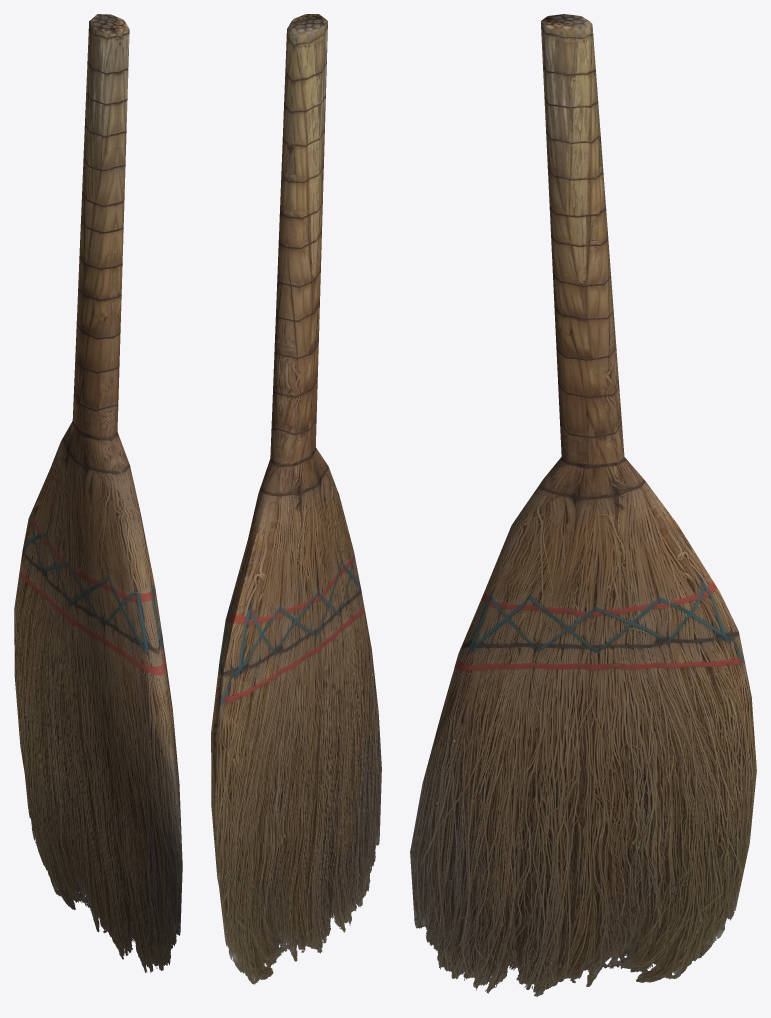
Rendered from Barrom_01.obj.
The picture shows the model from 3 angles, left to right: view 1: azimuth 30°, elevation 25°; view 2: azimuth 150°, elevation 25°; view 3: azimuth 270°, elevation 25°; orthographic projection. The views are drawn at different scales.
Visible parts, largest first — view 1: S_Broom_01; view 2: S_Broom_01; view 3: S_Broom_01.
Part boxes in pixels (x1,y1,x2,y2): S_Broom_01: (14, 14, 182, 972); S_Broom_01: (211, 14, 381, 984); S_Broom_01: (410, 14, 756, 996).
Bounding box in the file's own units: 3.24 × 56.65 × 18.12.
